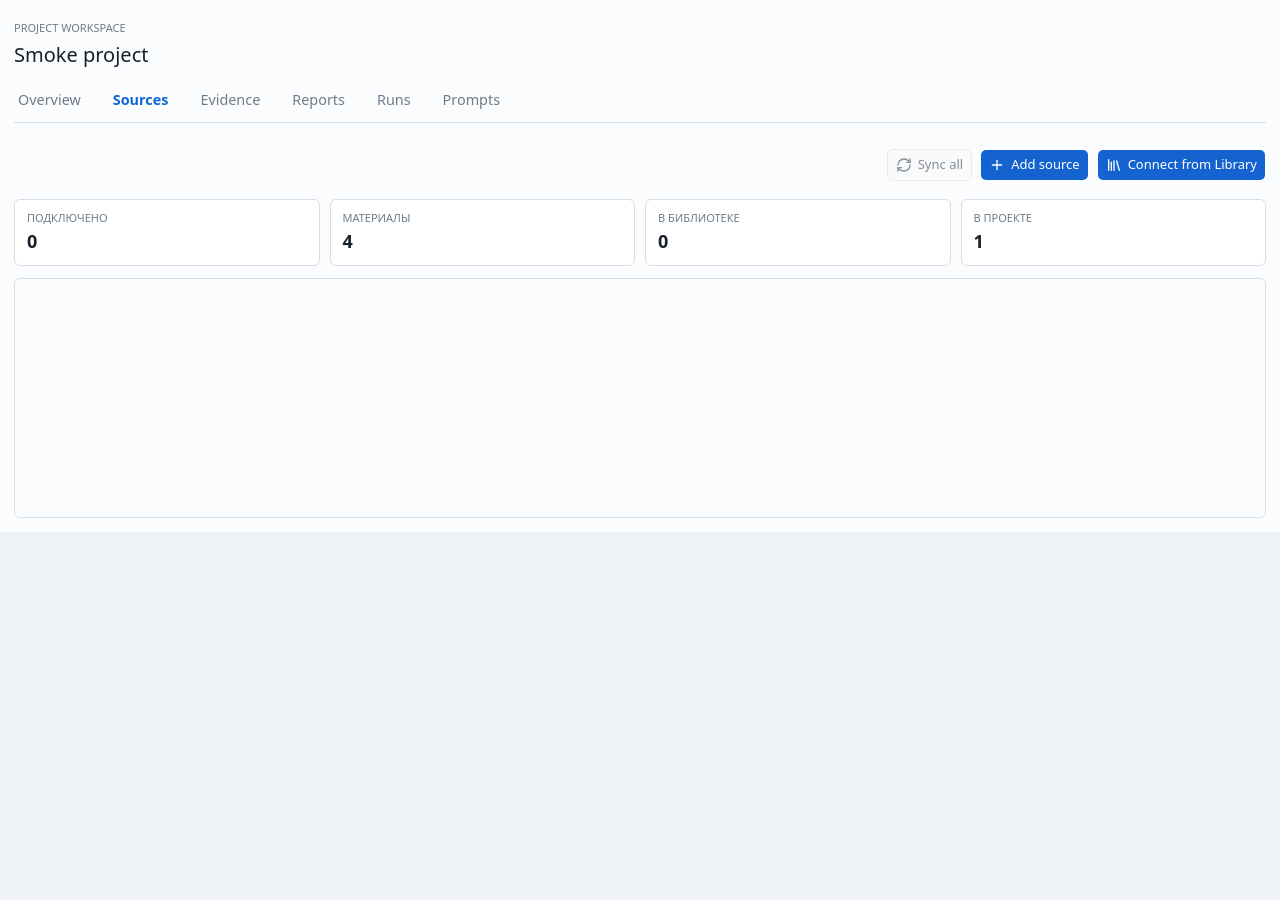
keeps prompt-pack run details in the Runs tab instead of duplicating them in the inspector
Click the tab "Runs".
click(394, 102)  # box 373,84 -> 415,121
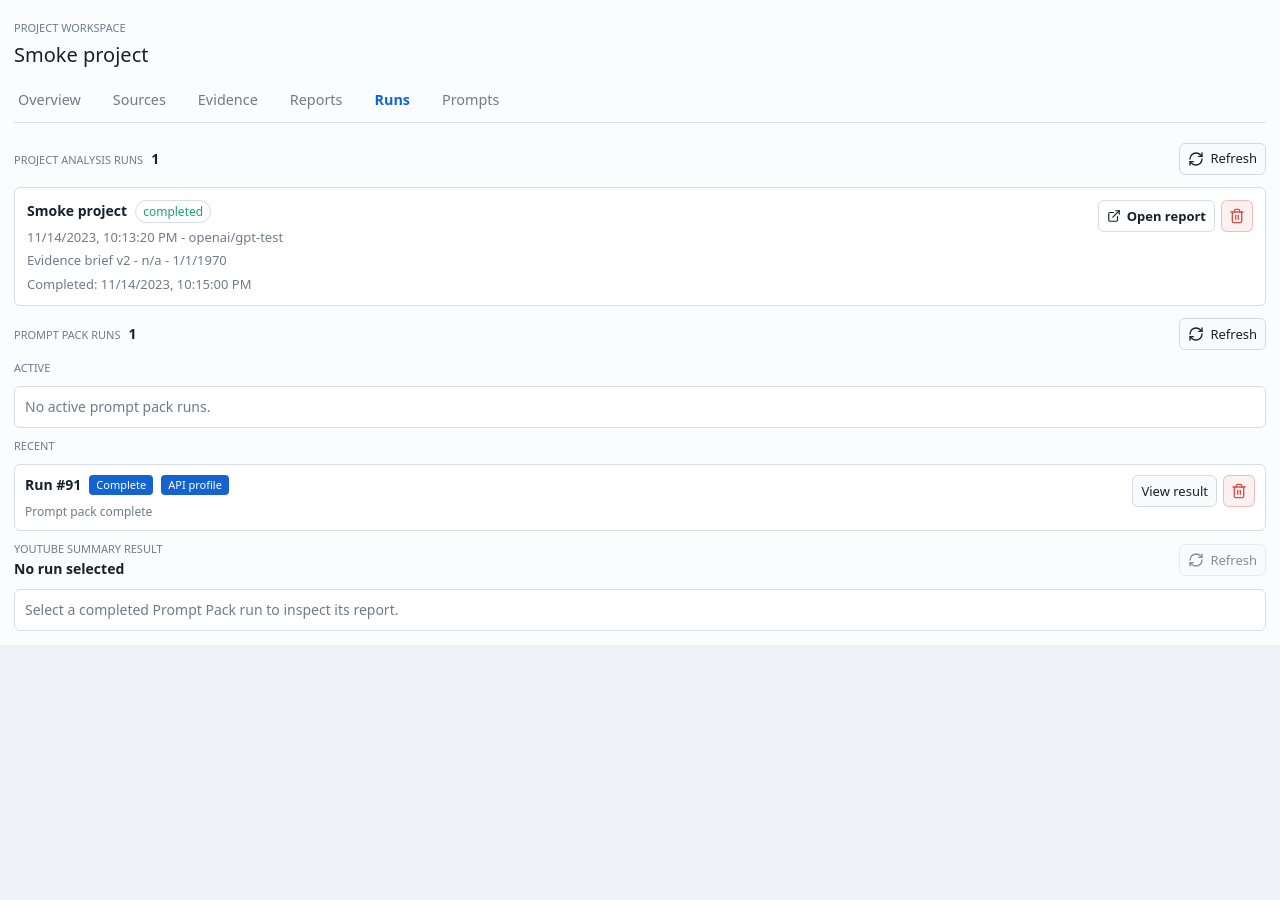
Expected: the text "Run #91" is shown, 25,475 -> 81,495
Expected: the element "Prompt Pack runs" is shown, 14,318 -> 1266,631
